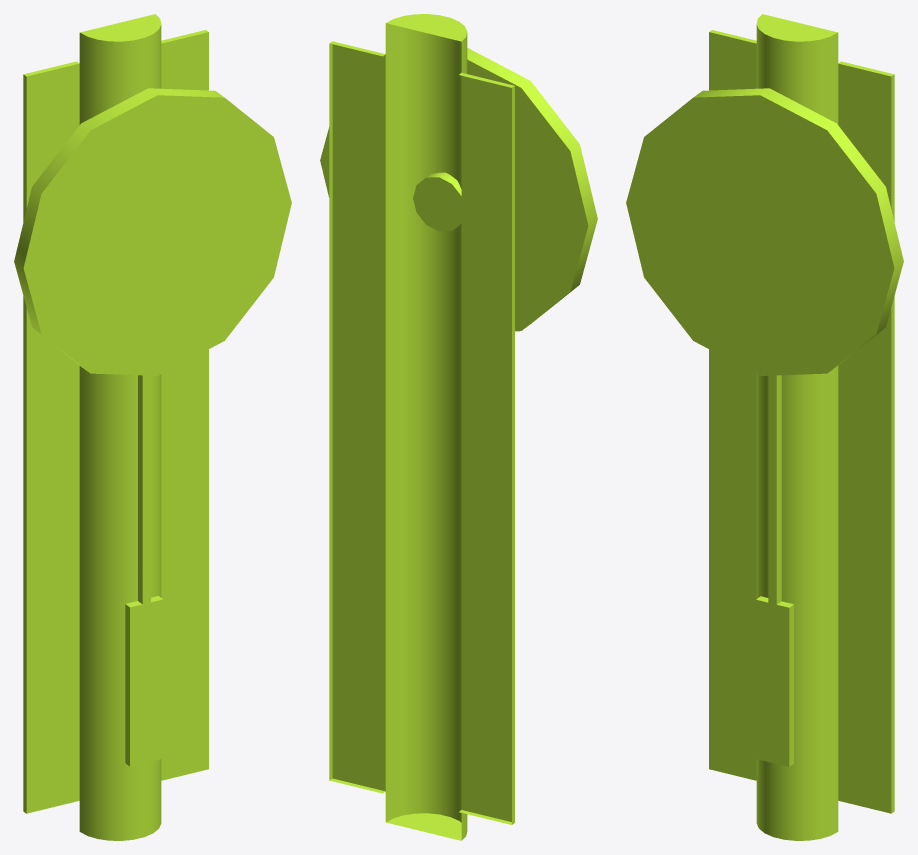
Rendered from Clock_Wall.FBX.
3 views of the same model, side by side, from view 1: azimuth 30°, elevation 25°; view 2: azimuth 150°, elevation 25°; view 3: azimuth 330°, elevation 25° (orthographic).
Parts seen in each view (by area): view 1: Clock_1; view 2: Clock_1; view 3: Clock_1.
Part boxes in pixels (x1,y1,x2,y2): Clock_1: (14, 14, 291, 840); Clock_1: (320, 14, 597, 840); Clock_1: (626, 14, 903, 840).
Size of the model in its own units: 0.6962 by 1.98 by 0.1934.
